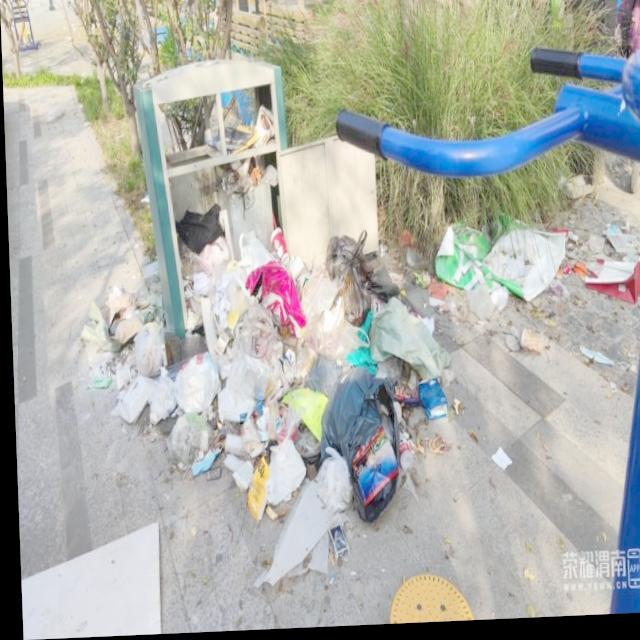garbage: (75, 188, 640, 593)
overflow: (130, 58, 292, 332)
